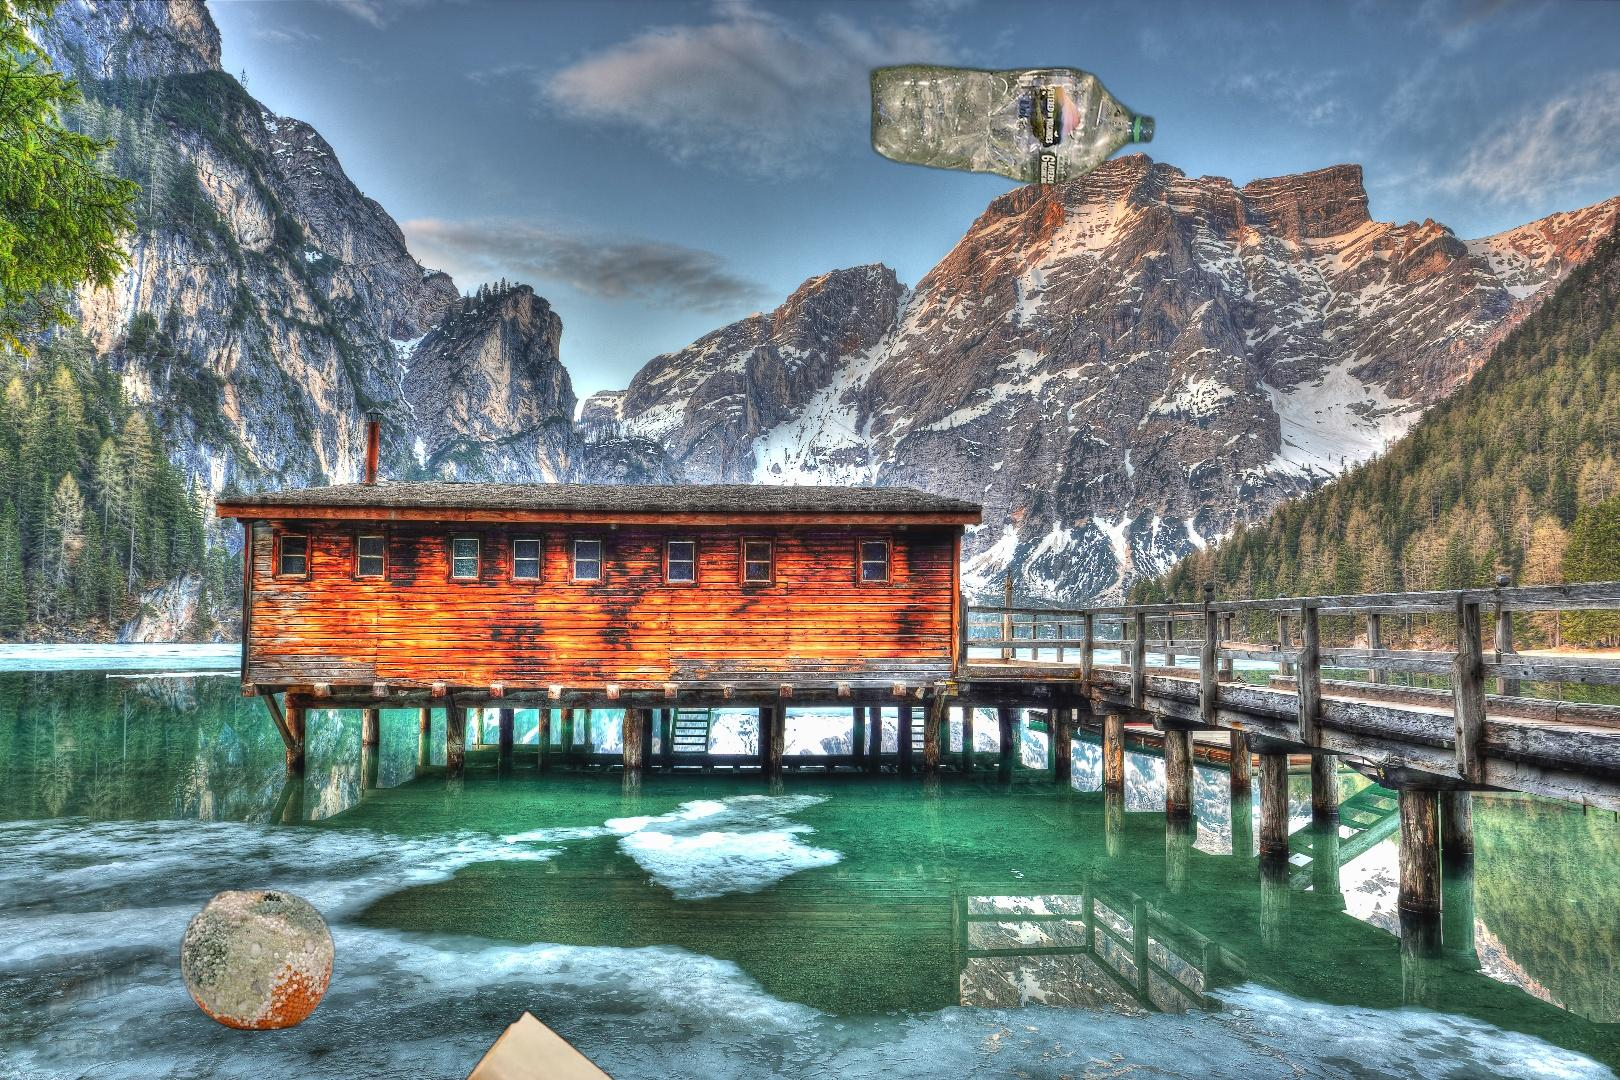biological: (177, 886, 339, 1034), (670, 967, 857, 1080)
paper-bag: (459, 1008, 658, 1080)
plastic-bottles: (865, 58, 1282, 520)
